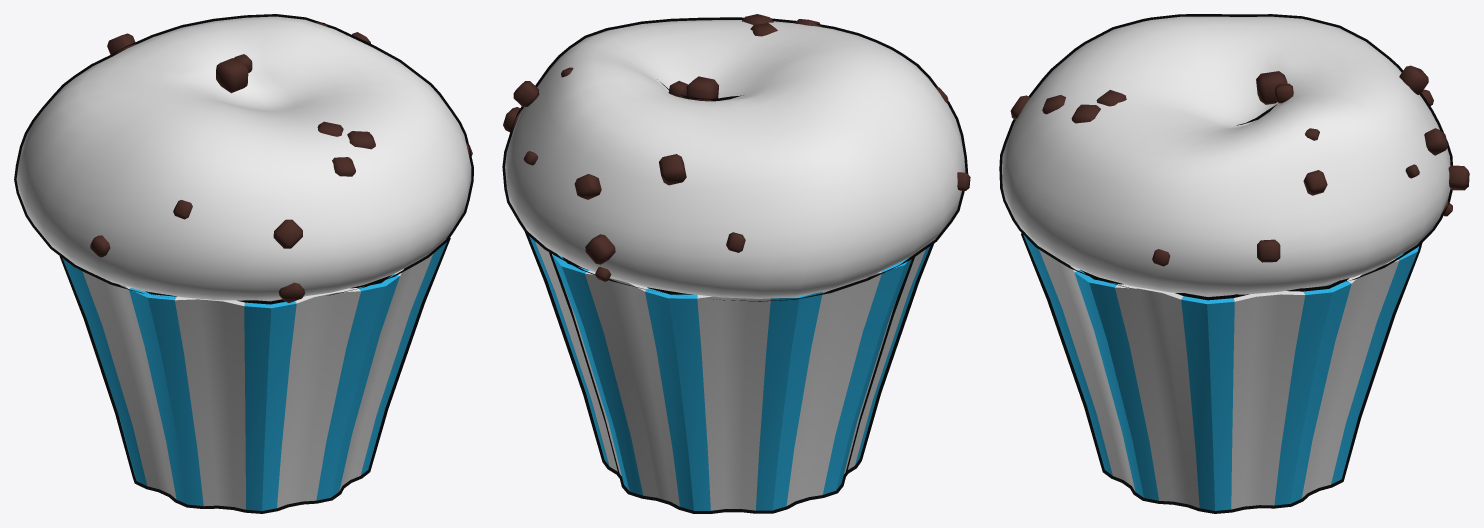
File: muffin_2.glb
3 renders of one model, left to right at view 1: azimuth 30°, elevation 25°; view 2: azimuth 150°, elevation 25°; view 3: azimuth 270°, elevation 25°, orthographic. The views are drawn at different scales.
Visible parts, largest first — view 1: Circle.003, Cylinder.003, Cube.001; view 2: Circle.003, Cylinder.003, Cube.001; view 3: Circle.003, Cylinder.003, Cube.001.
Part boxes in pixels (x1=…): Circle.003: x1=14, y1=14, x2=473, y2=301; Cylinder.003: x1=59, y1=238, x2=450, y2=513; Cube.001: x1=90, y1=22, x2=472, y2=302; Circle.003: x1=502, y1=17, x2=968, y2=301; Cylinder.003: x1=525, y1=232, x2=934, y2=513; Cube.001: x1=503, y1=14, x2=970, y2=281; Circle.003: x1=999, y1=14, x2=1452, y2=296; Cylinder.003: x1=1021, y1=233, x2=1422, y2=513; Cube.001: x1=1010, y1=65, x2=1469, y2=266.
Size of what is drawn, in the model's own units: 1.9 by 1.8 by 1.93.
